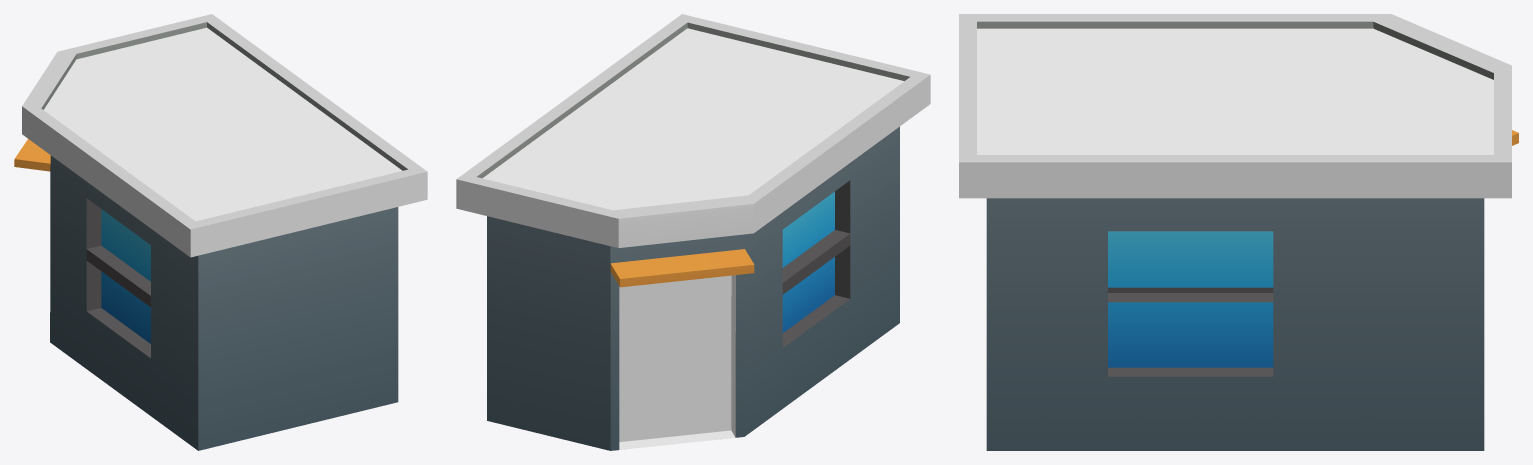
File: Lvl2_Home.fbx
The picture shows the model from 3 angles, left to right: view 1: azimuth 30°, elevation 25°; view 2: azimuth 150°, elevation 25°; view 3: azimuth 270°, elevation 25°; orthographic projection. The views are drawn at different scales.
Parts seen in each view (by area): view 1: Lvl2_Home; view 2: Lvl2_Home; view 3: Lvl2_Home.
Boxes of the visible parts, box(x1,y1,x2,y2) form: Lvl2_Home: box(14, 14, 427, 450); Lvl2_Home: box(456, 14, 930, 450); Lvl2_Home: box(959, 14, 1518, 450).
Bounding box in the file's own units: 193 × 179 × 302.
